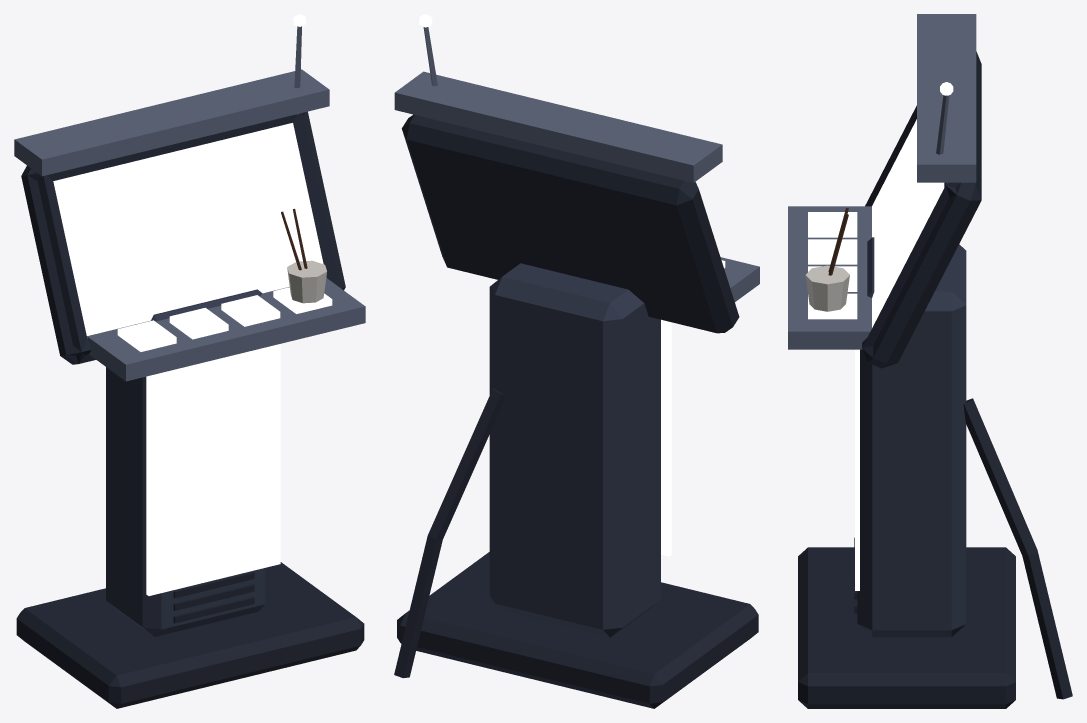
The model's file is kit-tokyo-terminal.glb.
3 views of the same model, side by side, from view 1: azimuth 30°, elevation 25°; view 2: azimuth 150°, elevation 25°; view 3: azimuth 270°, elevation 25° (orthographic). The views are drawn at different scales.
Visible parts, largest first — view 1: kit-tokyo-terminal; view 2: kit-tokyo-terminal; view 3: kit-tokyo-terminal.
Part boxes in pixels (x1,y1,x2,y2): kit-tokyo-terminal: [14, 14, 365, 708]; kit-tokyo-terminal: [394, 14, 759, 708]; kit-tokyo-terminal: [788, 14, 1072, 708].
Bounding box in the file's own units: 0.72 × 1.41 × 0.5748.
